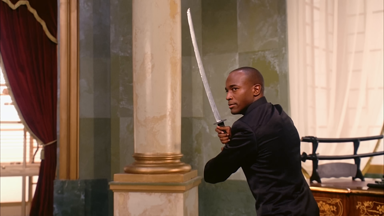bladed_weapon: (182, 3, 230, 144), (301, 147, 382, 165), (298, 131, 383, 143)
